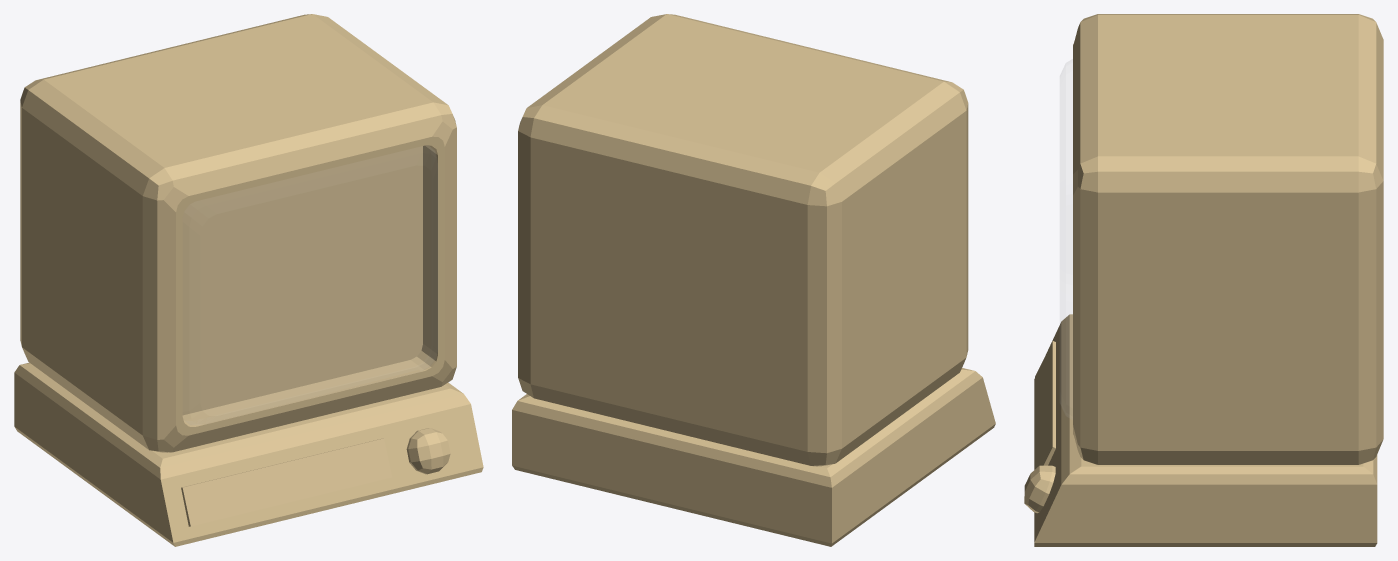
The model's file is Lvl1_PC_Mdl1.fbx.
The picture shows the model from 3 angles, left to right: view 1: azimuth 30°, elevation 25°; view 2: azimuth 150°, elevation 25°; view 3: azimuth 270°, elevation 25°; orthographic projection. The views are drawn at different scales.
Parts seen in each view (by area): view 1: Lvl1_PC_Mdl1; view 2: Lvl1_PC_Mdl1; view 3: Lvl1_PC_Mdl1.
Boxes of the visible parts, x1,y1,x2,y2 form: Lvl1_PC_Mdl1: (14, 14, 483, 546); Lvl1_PC_Mdl1: (512, 14, 995, 546); Lvl1_PC_Mdl1: (1024, 14, 1383, 546).
Bounding box in the file's own units: 73.59 × 79.83 × 67.89.
